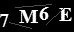6: (38, 6, 50, 21)
7: (1, 13, 10, 28)
E: (57, 7, 73, 22)
M: (18, 9, 39, 24)
